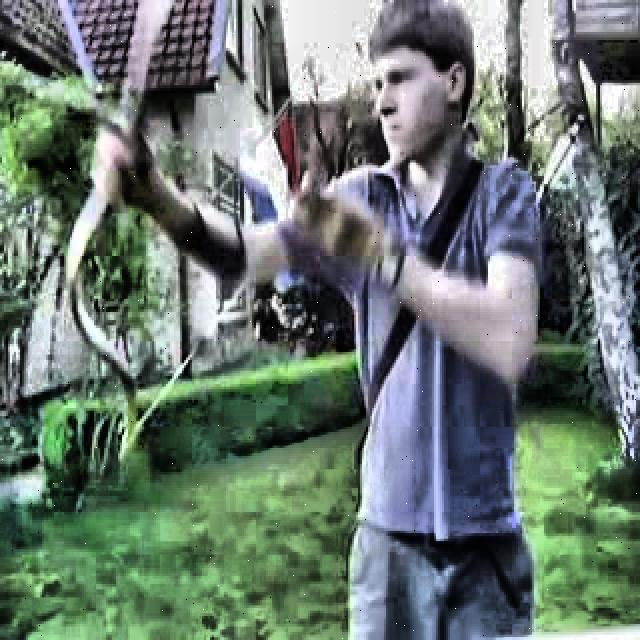P: (88, 6, 540, 634)
